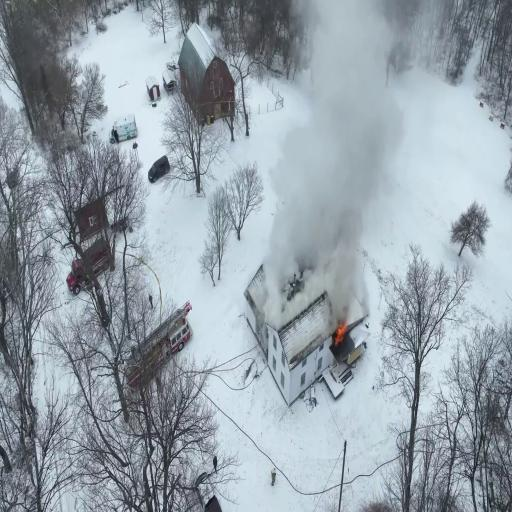fire: (328, 308, 348, 346)
smoke: (305, 8, 376, 270)
